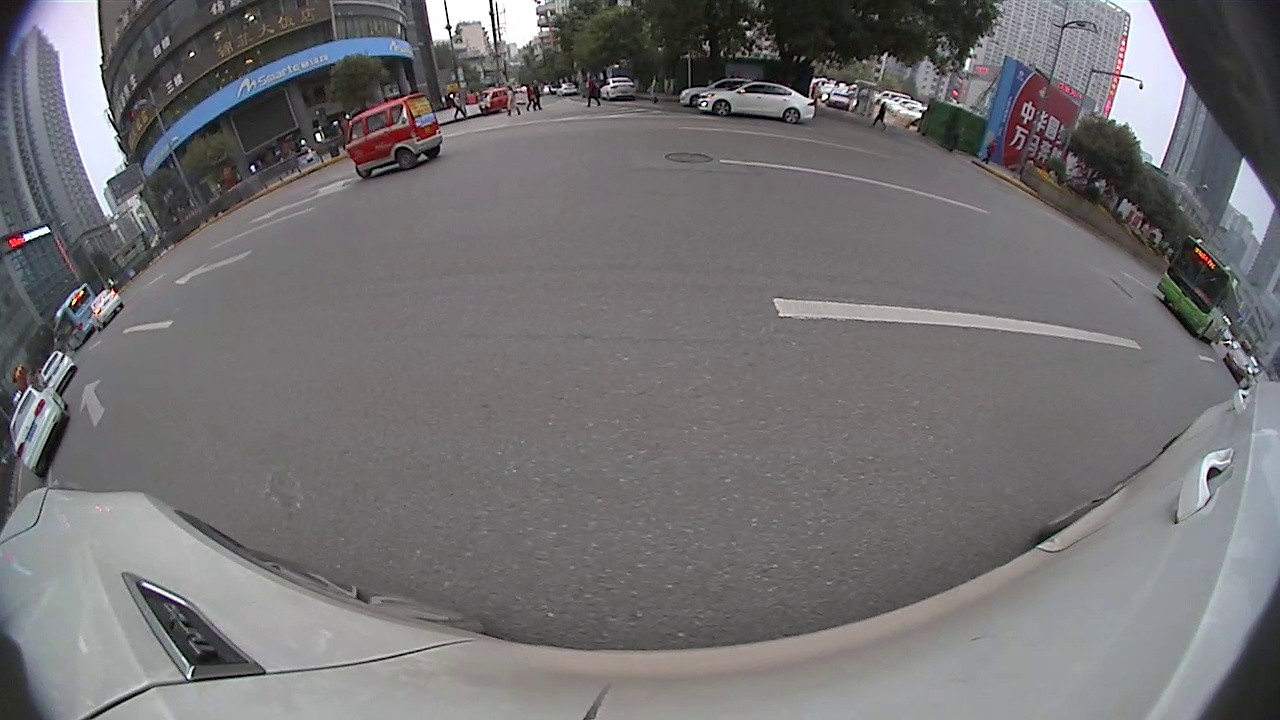bus: (1154, 232, 1237, 346), (53, 286, 95, 351)
car: (6, 381, 69, 482), (696, 79, 815, 127), (676, 78, 750, 110), (38, 351, 77, 390), (87, 288, 122, 329), (1222, 346, 1256, 383)
front: (713, 100, 734, 119), (355, 163, 374, 181)
rear: (395, 147, 419, 171), (781, 107, 803, 125)
rider: (346, 90, 440, 181)
